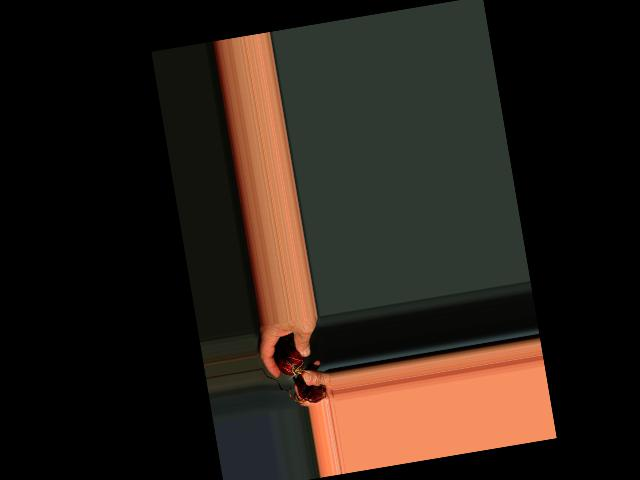onion: (274, 346, 306, 377)
